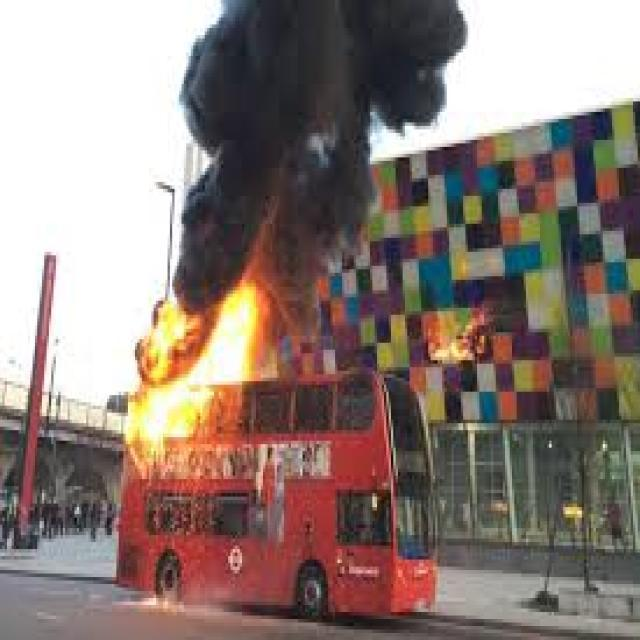Smoke: (172, 0, 457, 286)
